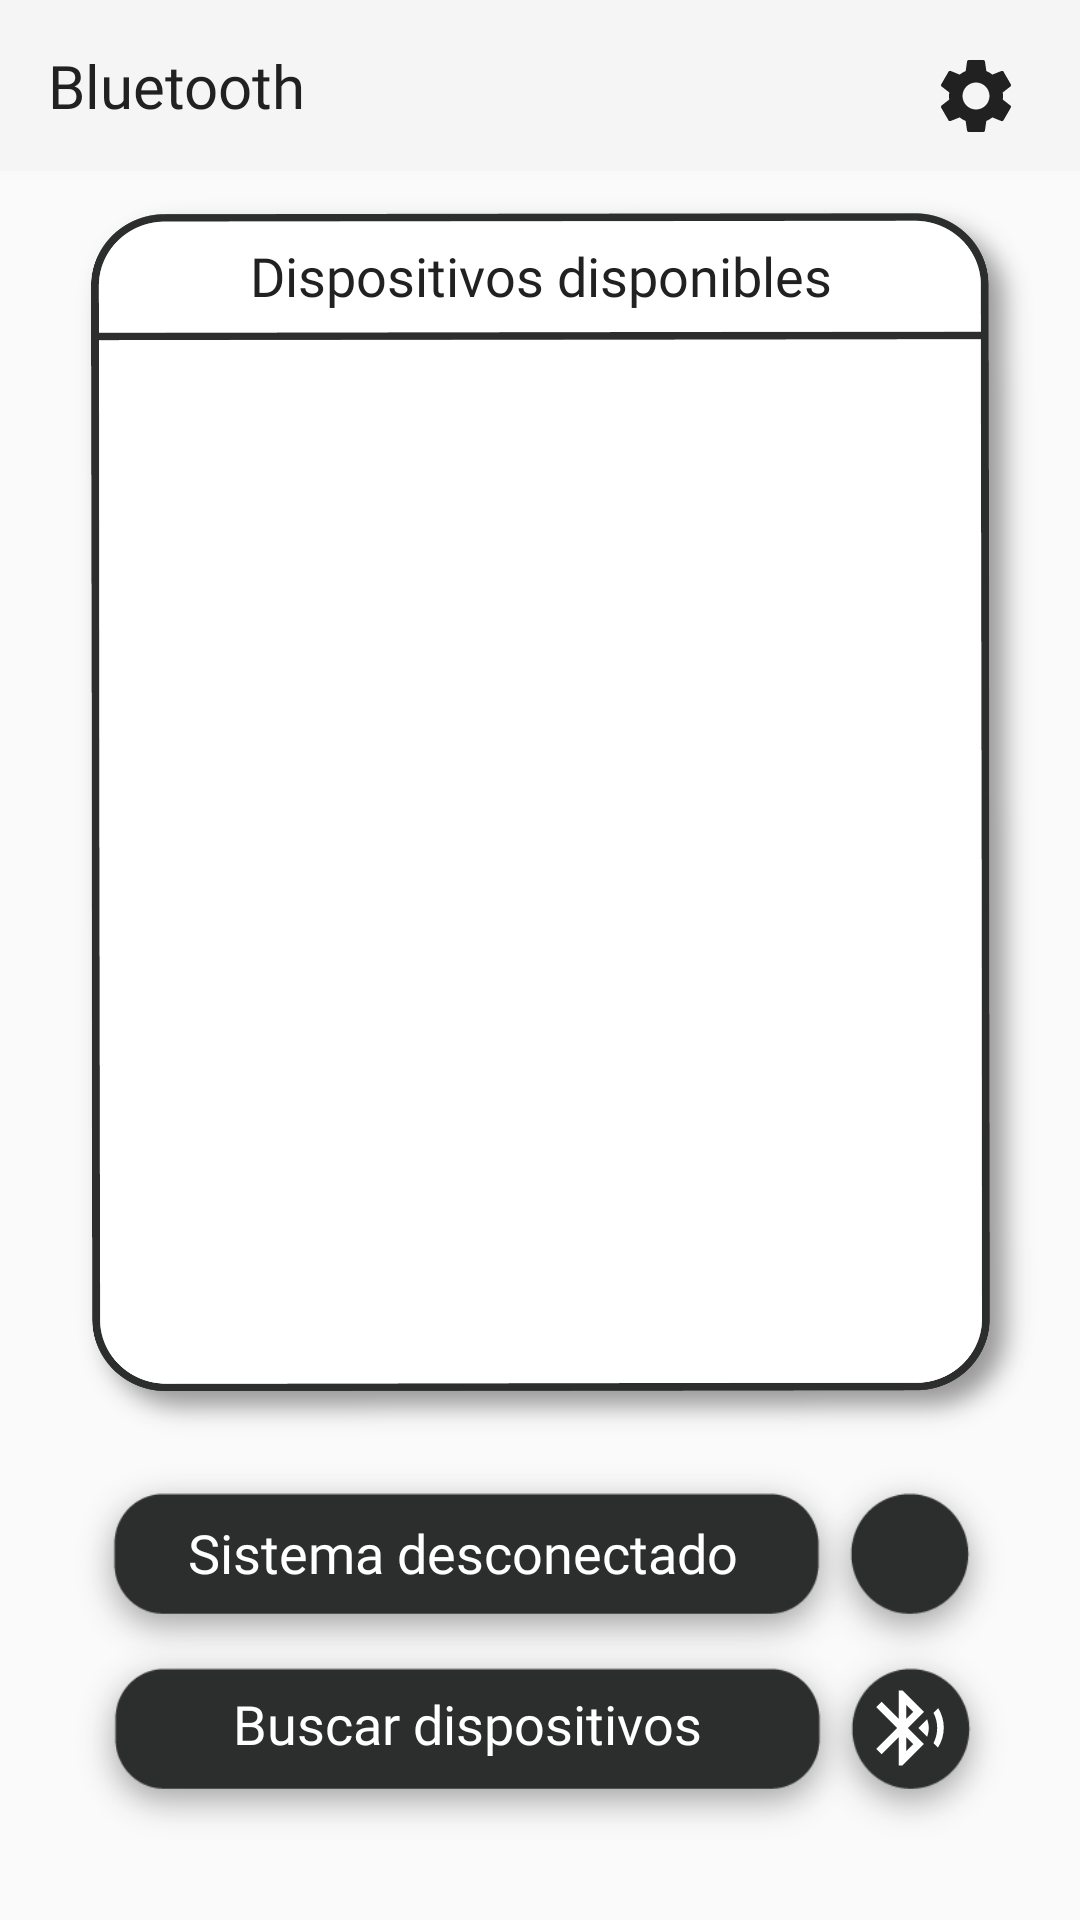

Icon click points for this 1080*1920 phone screenshot, format (x,y):
config: (976,96)
